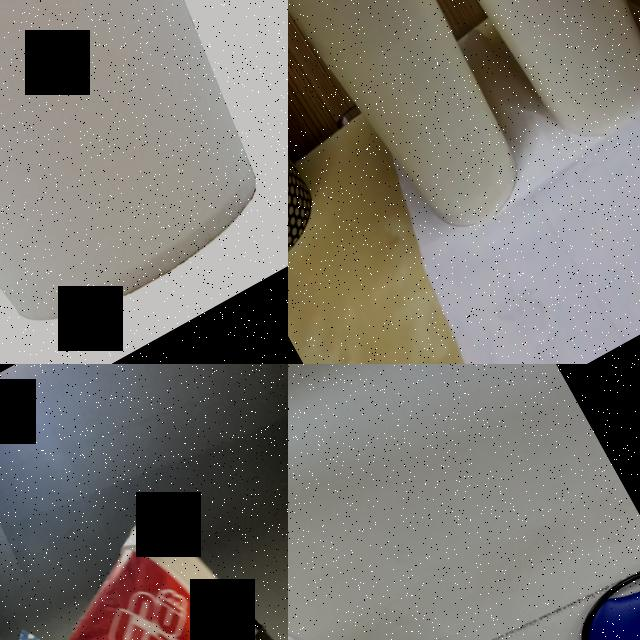cup: (0, 0, 288, 364), (288, 0, 556, 270), (349, 0, 640, 165), (0, 498, 287, 640), (288, 0, 341, 278)
